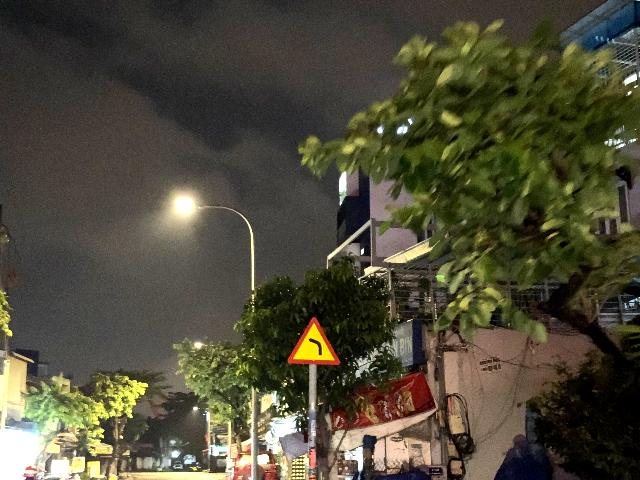cho-ngoat-nguy-hiem-ben-trai: (287, 317, 340, 365)
